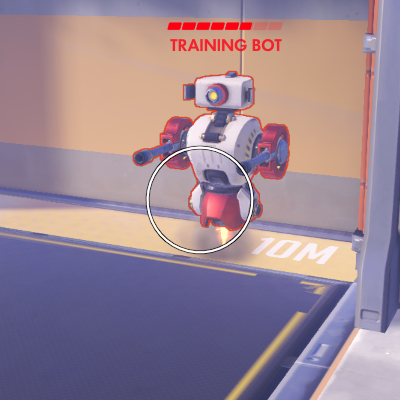hpbar: (167, 22, 283, 31)
